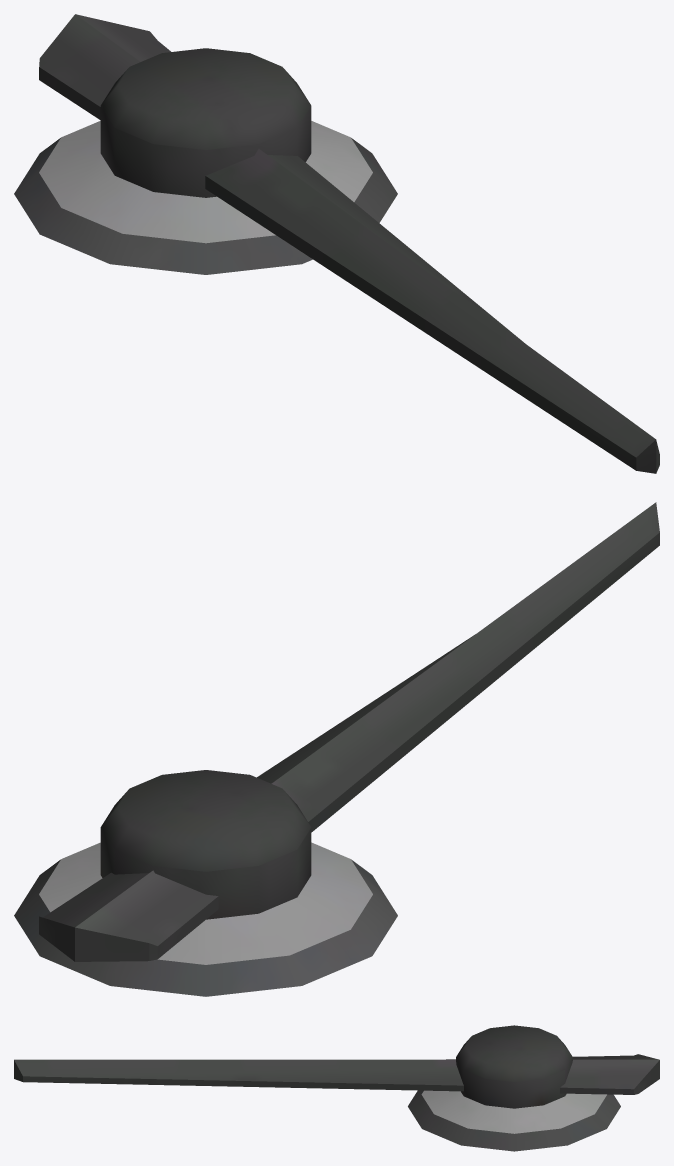
File: nt_nuketown_sign_needle_LOD0.obj
The picture shows the model from 3 angles, top to bottom: view 1: azimuth 30°, elevation 25°; view 2: azimuth 150°, elevation 25°; view 3: azimuth 270°, elevation 25°; orthographic projection. The views are drawn at different scales.
Visible parts, largest first — view 1: mtl_nt_nuketown_sign02; view 2: mtl_nt_nuketown_sign02; view 3: mtl_nt_nuketown_sign02.
Boxes of the visible parts, x1,y1,x2,y2 form: mtl_nt_nuketown_sign02: (14, 14, 659, 473); mtl_nt_nuketown_sign02: (14, 502, 659, 996); mtl_nt_nuketown_sign02: (14, 1025, 659, 1151).
Size of the model in its own units: 31.73 by 9.89 by 96.01.
